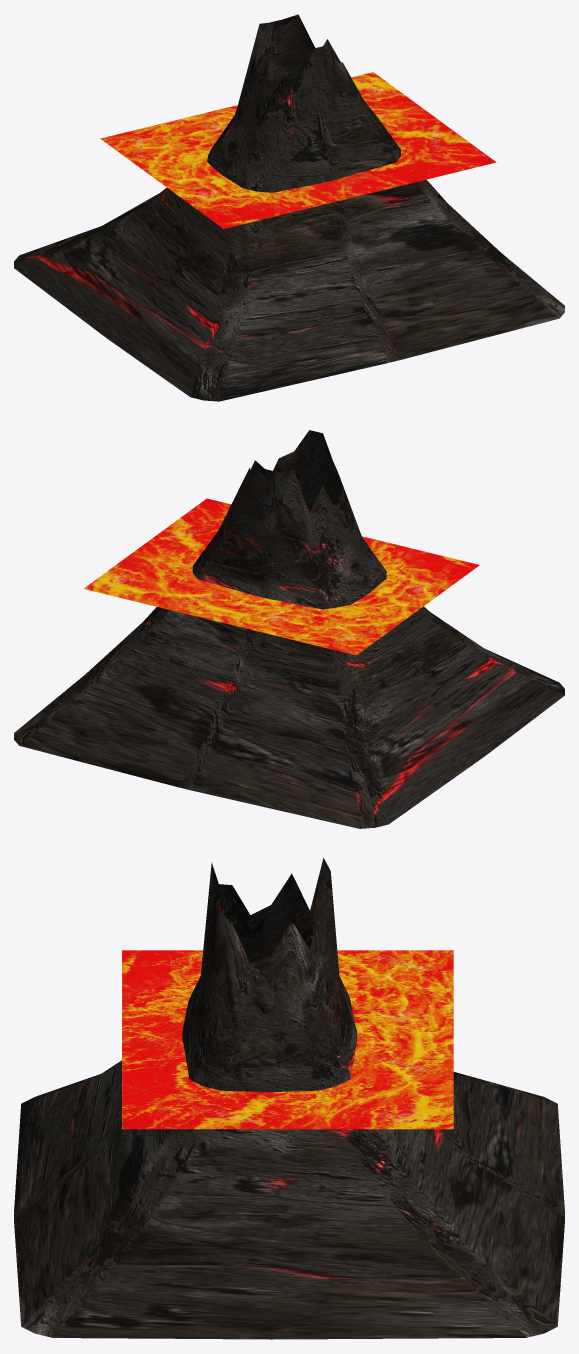
File: New Volcano.FBX
The picture shows the model from 3 angles, top to bottom: view 1: azimuth 30°, elevation 25°; view 2: azimuth 150°, elevation 25°; view 3: azimuth 270°, elevation 25°; orthographic projection. The views are drawn at different scales.
Visible parts, largest first — view 1: Cylinder001, Plane001; view 2: Cylinder001, Plane001; view 3: Cylinder001, Plane001.
Part boxes in pixels (x1,y1,x2,y2): Cylinder001: (14, 14, 564, 401); Plane001: (100, 72, 496, 228); Cylinder001: (14, 430, 564, 828); Plane001: (83, 498, 479, 655); Cylinder001: (14, 858, 564, 1339); Plane001: (122, 950, 453, 1129).
Bounding box in the file's own units: 172 × 113 × 161.
